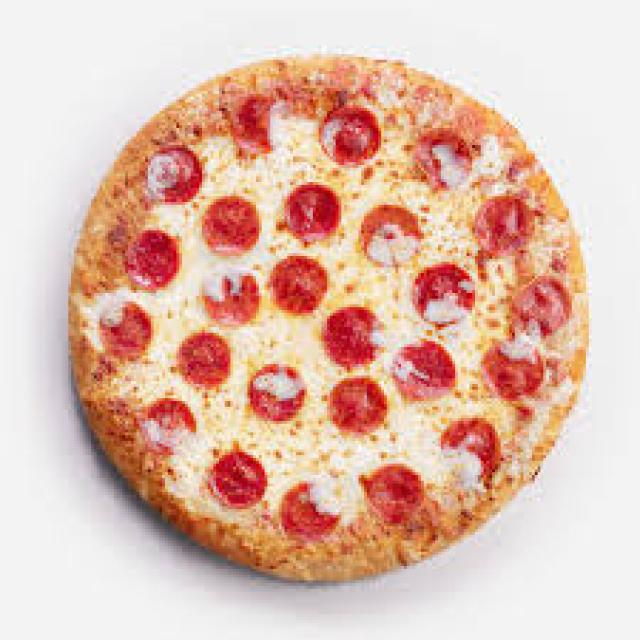피자: (67, 23, 596, 609)
